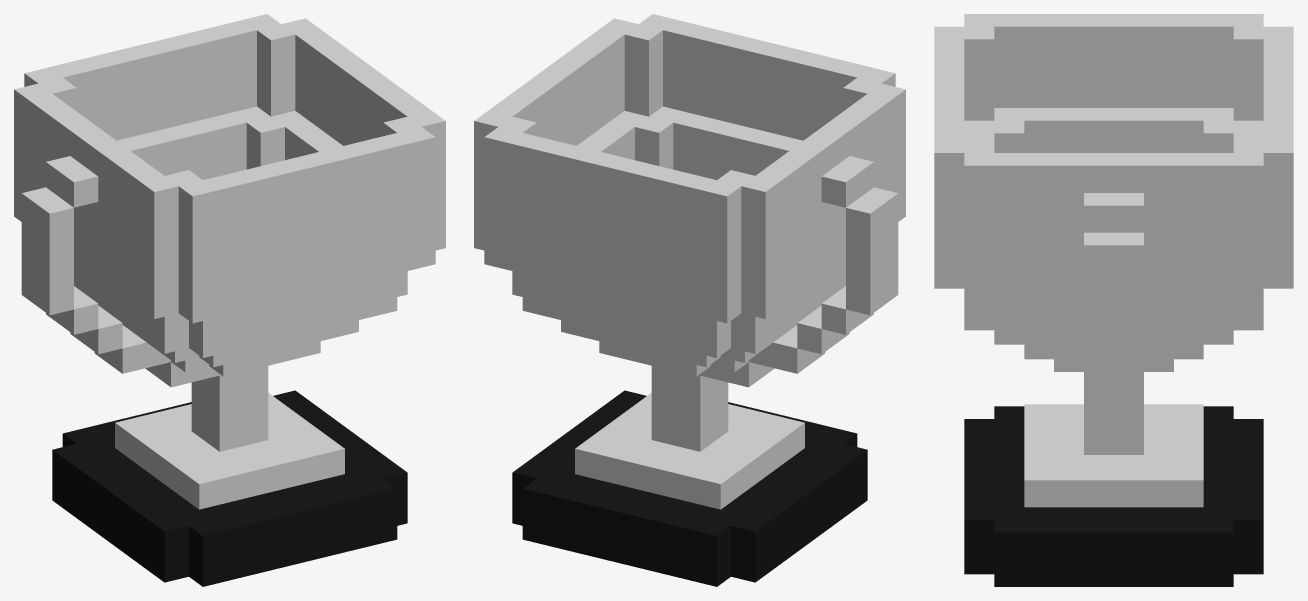
Rendered from Trophy-5.obj.
The picture shows the model from 3 angles, left to right: view 1: azimuth 30°, elevation 25°; view 2: azimuth 150°, elevation 25°; view 3: azimuth 270°, elevation 25°; orthographic projection. The views are drawn at different scales.
Parts seen in each view (by area): view 1: Trophy-5; view 2: Trophy-5; view 3: Trophy-5.
Boxes of the visible parts, x1,y1,x2,y2 form: Trophy-5: (14, 14, 445, 586); Trophy-5: (474, 14, 905, 586); Trophy-5: (934, 14, 1293, 586).
Bounding box in the file's own units: 16 × 16 × 12.
Materials: 1 (1 with a texture image).
